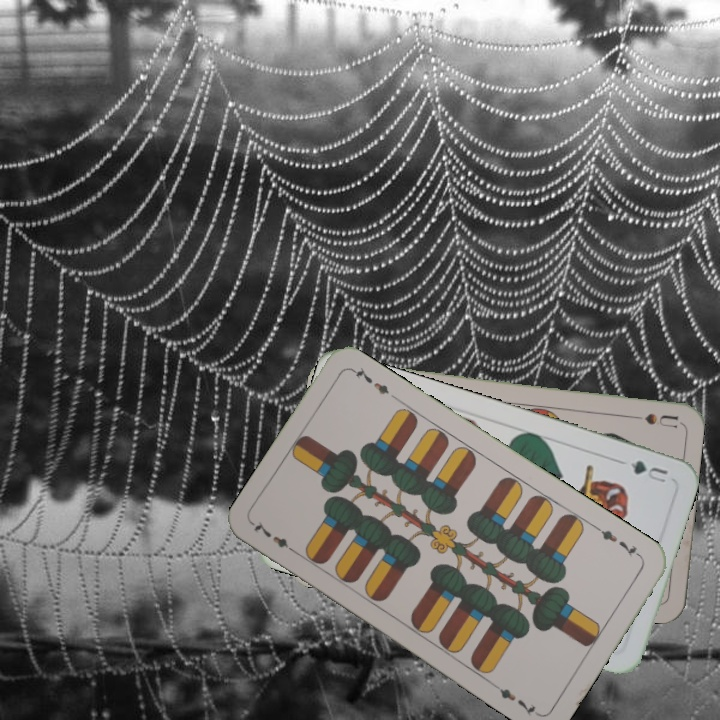E7: (249, 517, 301, 558), (592, 522, 645, 561)
GU: (626, 456, 670, 487)
SU: (620, 409, 679, 430)
